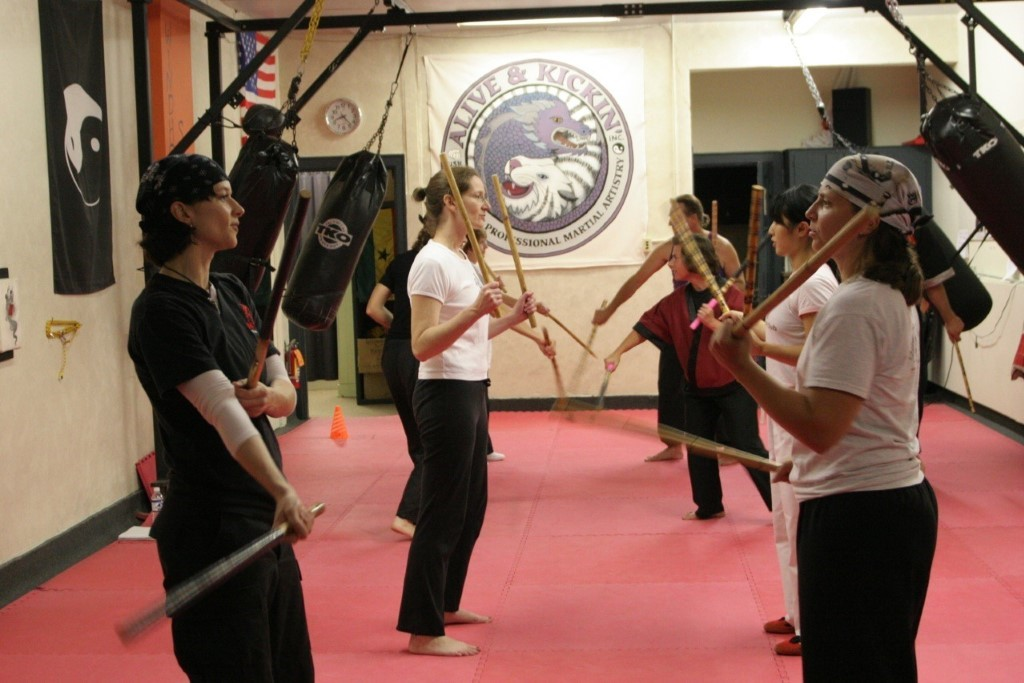baston_e: (129, 504, 314, 642), (737, 211, 863, 337), (574, 405, 778, 474), (246, 200, 309, 383), (439, 159, 498, 307), (672, 204, 728, 311), (492, 186, 535, 322), (740, 196, 762, 317), (548, 312, 594, 357), (710, 203, 718, 255)
baston_v: (857, 200, 885, 224), (111, 621, 132, 647), (296, 184, 313, 205), (314, 496, 331, 515), (750, 180, 767, 196), (490, 306, 504, 322), (667, 195, 682, 209), (437, 149, 450, 162), (710, 197, 721, 207), (687, 323, 698, 332), (528, 321, 539, 330), (540, 324, 550, 332), (600, 297, 610, 305), (490, 172, 500, 179), (592, 352, 599, 360), (970, 408, 978, 414)
